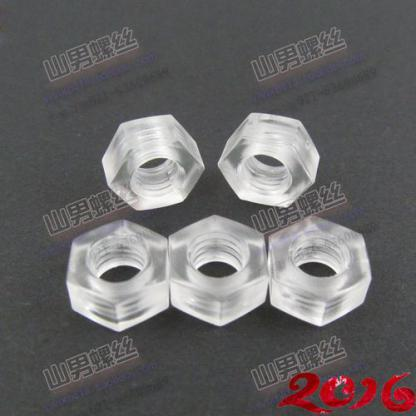FOD: (265, 212, 373, 327), (166, 213, 270, 330), (64, 219, 172, 331), (102, 113, 206, 213), (216, 110, 321, 207)
